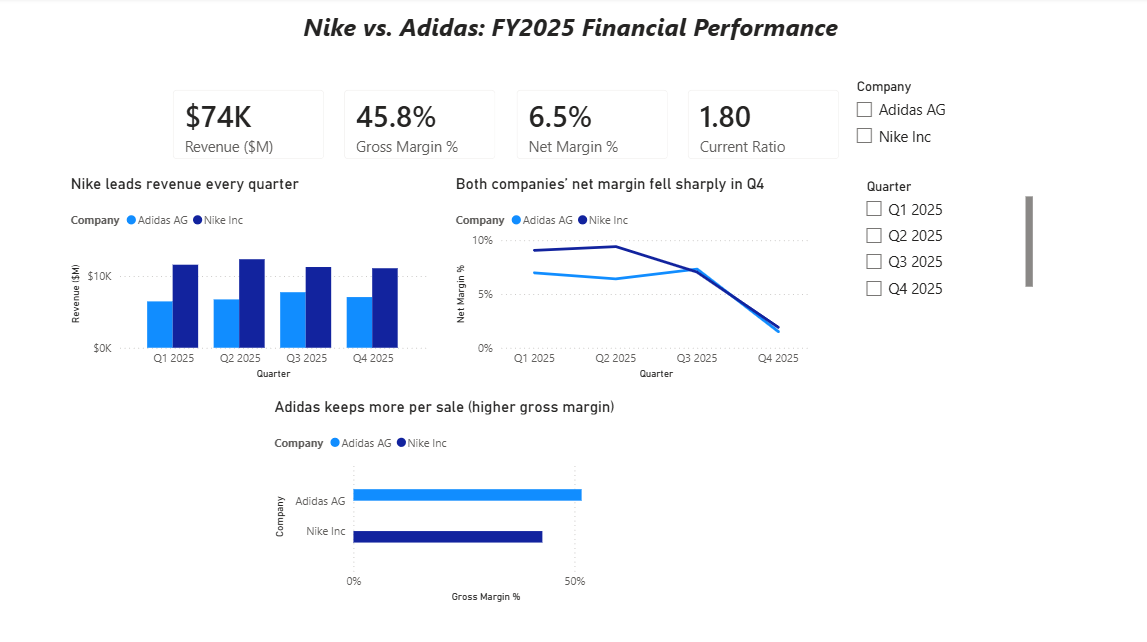

Layout of this report page (visuals, bound fields, positions):
{"tool":"powerbi","page":{"name":"Performance Overview","canvas":[1280,720],"ordinal":0},"visuals":[{"type":"textbox","box":[328,9.6,621.6,46.7],"z":1000},{"type":"slicer","fields":{"Values":["quarters.label"]},"box":[938.6,194.9,200,140],"z":2000},{"type":"clusteredColumnChart","title":"Nike leads revenue every quarter","fields":{"Category":["quarters.label"],"Series":["companies.Name"],"Y":["_Measures.Revenue USD Total"]},"box":[72.7,194.9,400.7,230],"z":3000},{"type":"lineChart","title":"Both companies’ net margin fell sharply in Q4","fields":{"Category":["quarters.label"],"Series":["companies.Name"],"Y":["_Measures.Net Margin %"]},"box":[495.4,194.9,400,230],"z":4000},{"type":"clusteredBarChart","title":"Adidas keeps more per sale (higher gross margin)","fields":{"Category":["companies.Name"],"Series":["companies.Name"],"Y":["_Measures.Gross Margin %"]},"box":[296.4,439.1,400,230],"z":5000},{"type":"cardVisual","fields":{"Data":["_Measures.Revenue USD Total"]},"box":[172.9,85.1,200,110],"z":6000},{"type":"slicer","fields":{"Values":["companies.Name"]},"box":[927.6,85.1,200.3,110],"z":7000},{"type":"cardVisual","fields":{"Data":["_Measures.Gross Margin %"]},"box":[361.6,85.1,200,110],"z":8000},{"type":"cardVisual","fields":{"Data":["_Measures.Net Margin %"]},"box":[550.3,85.1,200,110],"z":9000},{"type":"cardVisual","fields":{"Data":["_Measures.Current Ratio"]},"box":[738.9,85.1,200,110],"z":10000}]}

Visuals, with their boxes in screenshot pixels (x1, y1, x2, y2), scaled from the page's 1280x720 canvas onto the 1147x642 screenshot:
textbox: l=294, t=9, r=851, b=50
slicer - quarters.label: l=841, t=174, r=1020, b=299
"Nike leads revenue every quarter" clusteredColumnChart: l=65, t=174, r=424, b=379
"Both companies’ net margin fell sharply in Q4" lineChart: l=444, t=174, r=802, b=379
"Adidas keeps more per sale (higher gross margin)" clusteredBarChart: l=266, t=392, r=624, b=597
cardVisual - _Measures.Revenue USD Total: l=155, t=76, r=334, b=174
slicer - companies.Name: l=831, t=76, r=1011, b=174
cardVisual - _Measures.Gross Margin %: l=324, t=76, r=503, b=174
cardVisual - _Measures.Net Margin %: l=493, t=76, r=672, b=174
cardVisual - _Measures.Current Ratio: l=662, t=76, r=841, b=174
